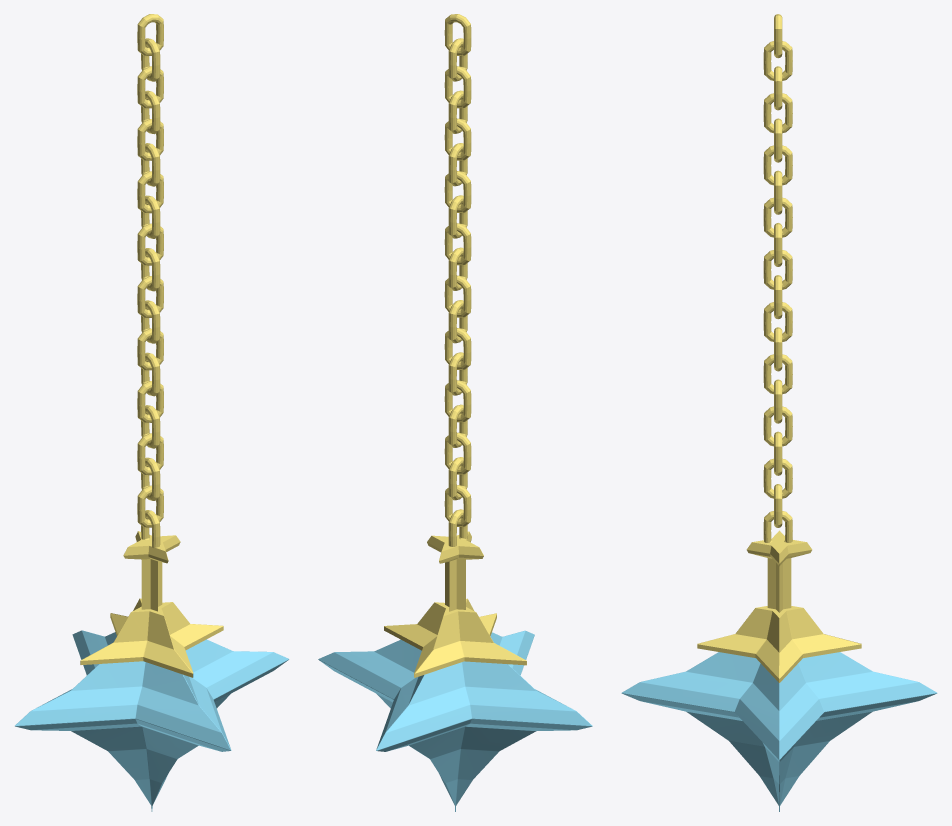
Rendered from CrystalCeiling.fbx.
The picture shows the model from 3 angles, left to right: view 1: azimuth 30°, elevation 25°; view 2: azimuth 150°, elevation 25°; view 3: azimuth 270°, elevation 25°; orthographic projection.
Parts seen in each view (by area): view 1: CrystalCeiling; view 2: CrystalCeiling; view 3: CrystalCeiling.
Part boxes in pixels (bbox=[...]): CrystalCeiling: bbox=[15, 14, 289, 811]; CrystalCeiling: bbox=[318, 14, 592, 811]; CrystalCeiling: bbox=[621, 14, 937, 811].
Bounding box in the file's own units: 99.4 × 276 × 99.4.
